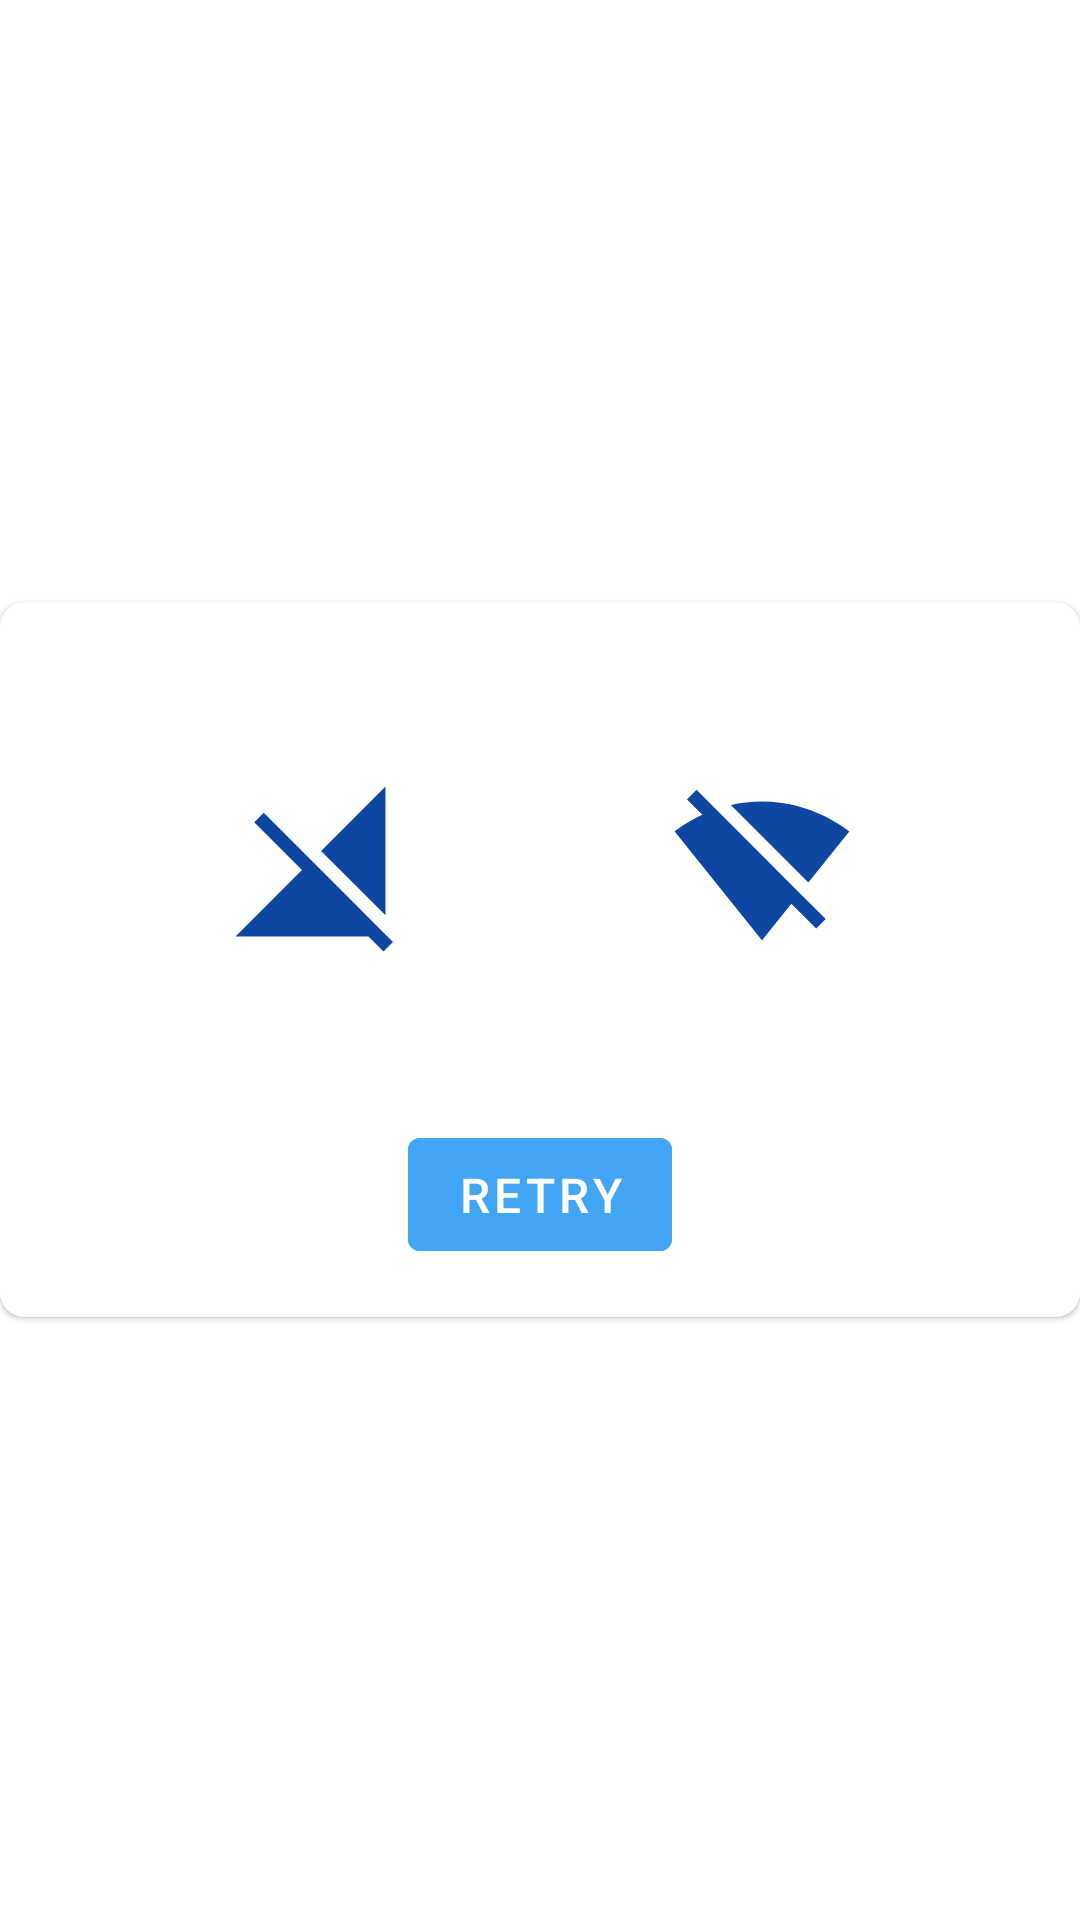

Where icons sit on this 1080px×1920px app screen, as (x1, y1, x2, y2):
mobile data off: (235, 786, 393, 952)
wifi off: (675, 790, 849, 940)
